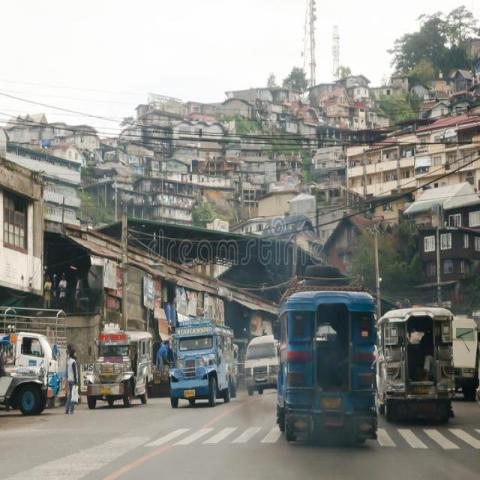jeepney: (263, 260, 387, 460), (377, 296, 456, 441), (75, 311, 153, 411), (164, 312, 236, 410)
van: (244, 337, 280, 396)
